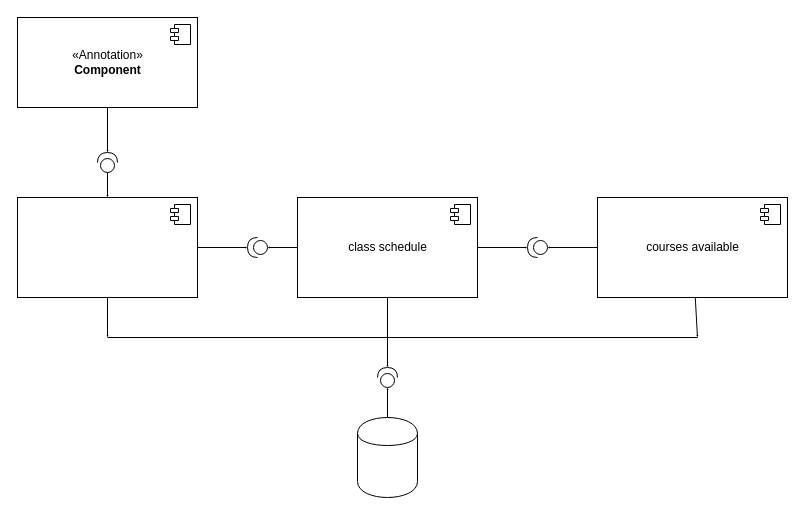
Image size: 805x515. Some labels were removed from this diagram. Each missing label, with the centre of its shape:
"profile" goes at (x=107, y=247).
"sql" goes at (x=387, y=457).
